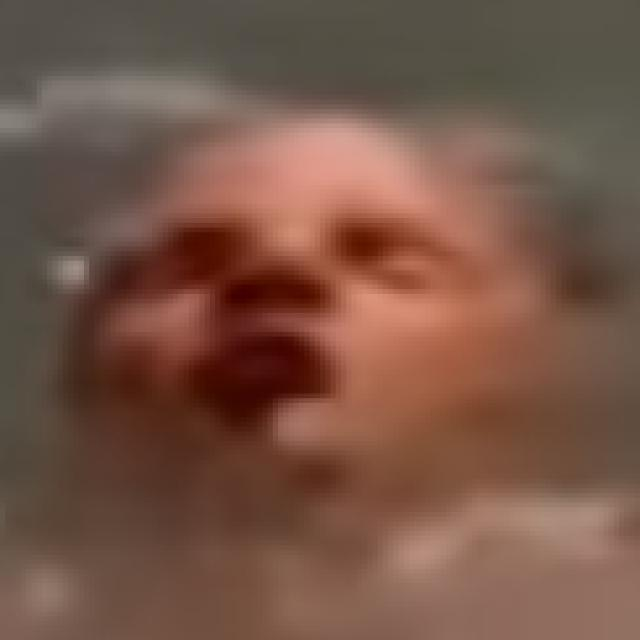Out of Water: (49, 87, 580, 502)
